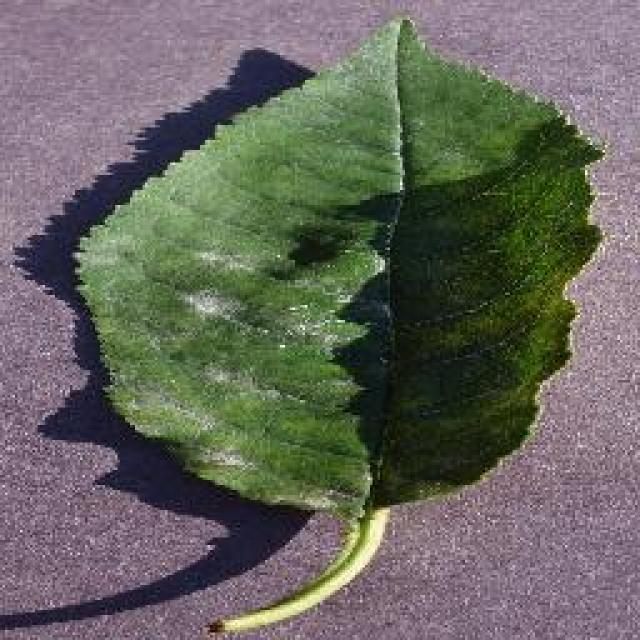Cher_including_sour_Pow_mildew: (168, 212, 408, 438)
